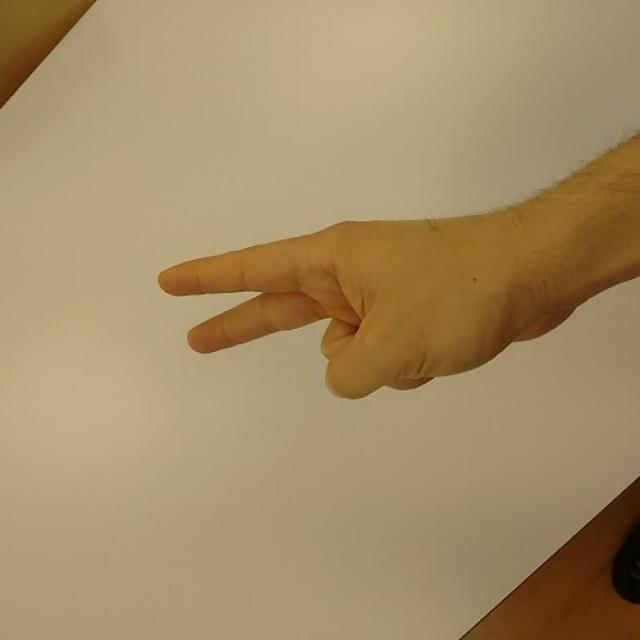scissors: (157, 214, 530, 400)
